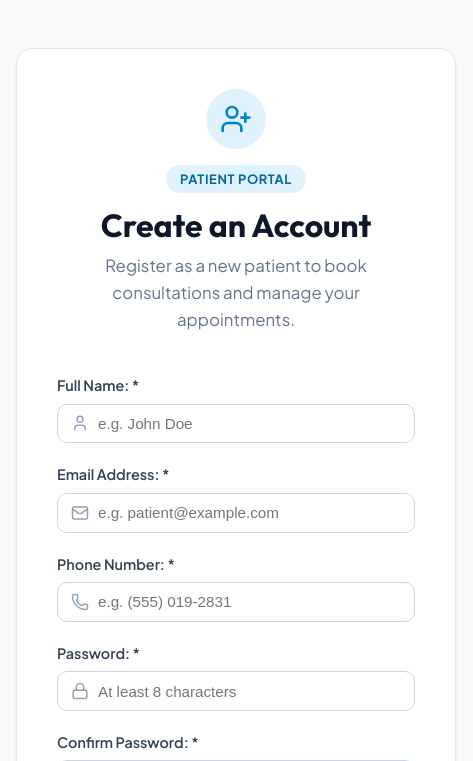
Test: Patient Registration Flow (/register) › handles backend validation errors (e.g. duplicate email)
Type "Alice Smith" into the field labelled "Full Name: *" at (236, 423), box [57,404,415,443]
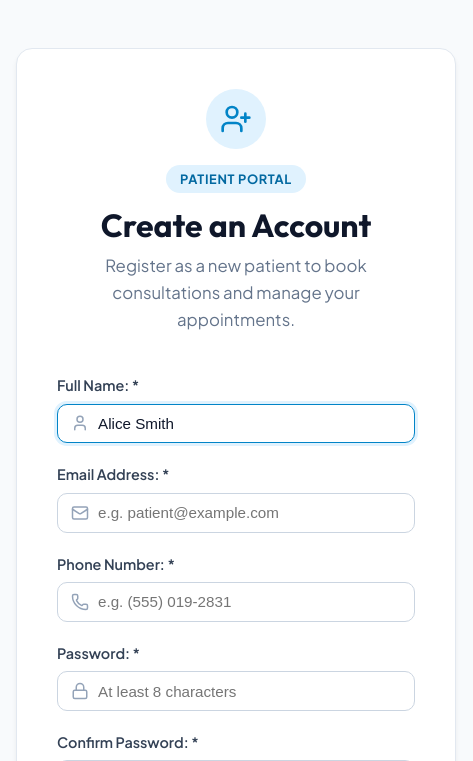
Type "existing@example.com" into the field labelled "Email Address: *" at (236, 513), box [57,493,415,533]
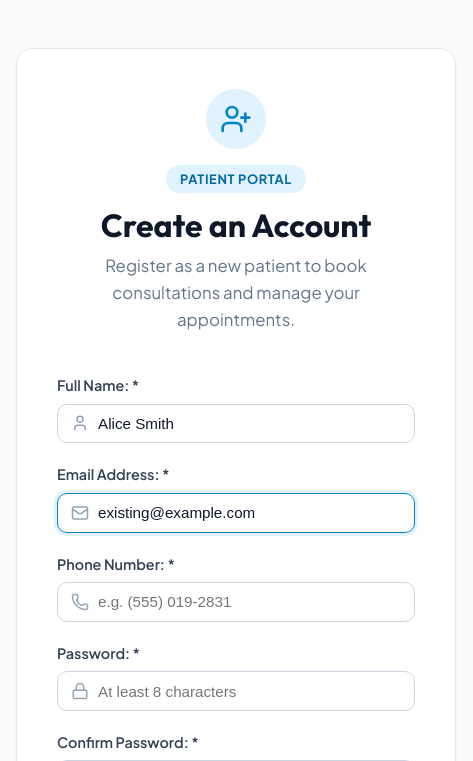
Type "555-9876" into the field labelled "Phone Number: *" at (236, 602), box [57,582,415,622]
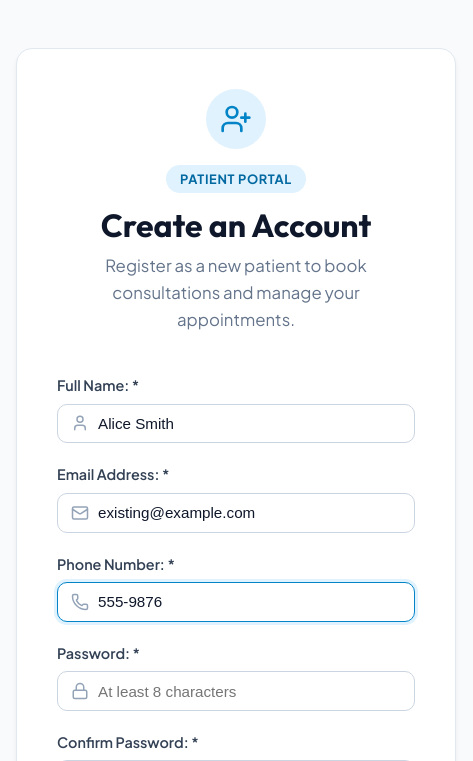
Type "Password123!" into the password field labelled "Password: *" at (236, 691), box [57,671,415,711]
(page scrolled)
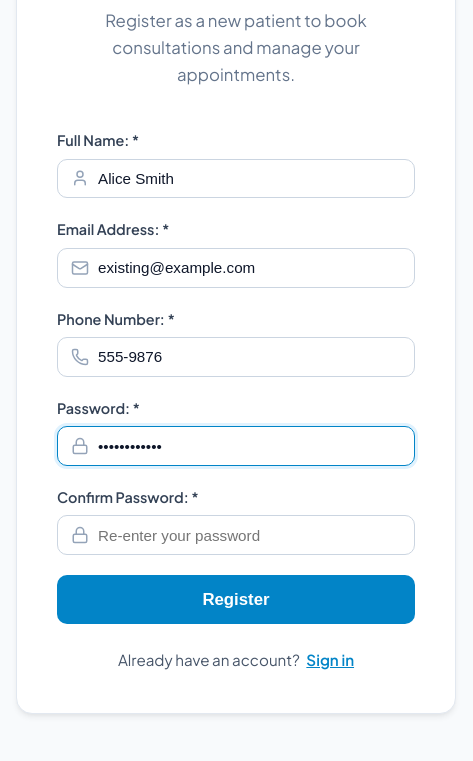
Type "Password123!" into the password field labelled "Confirm Password: *" at (236, 535), box [57,515,415,555]
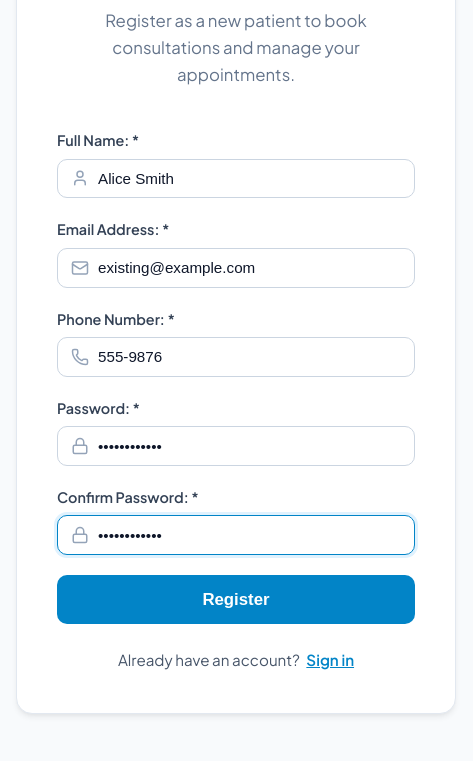
Click the button "Register" at (236, 600), box [57,575,415,624]
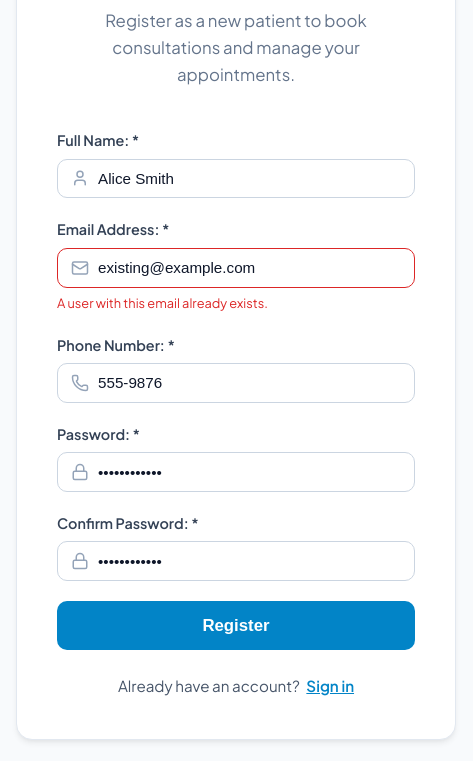
Now the text "A user with this email already exists." is shown, box [57,295,268,311]
